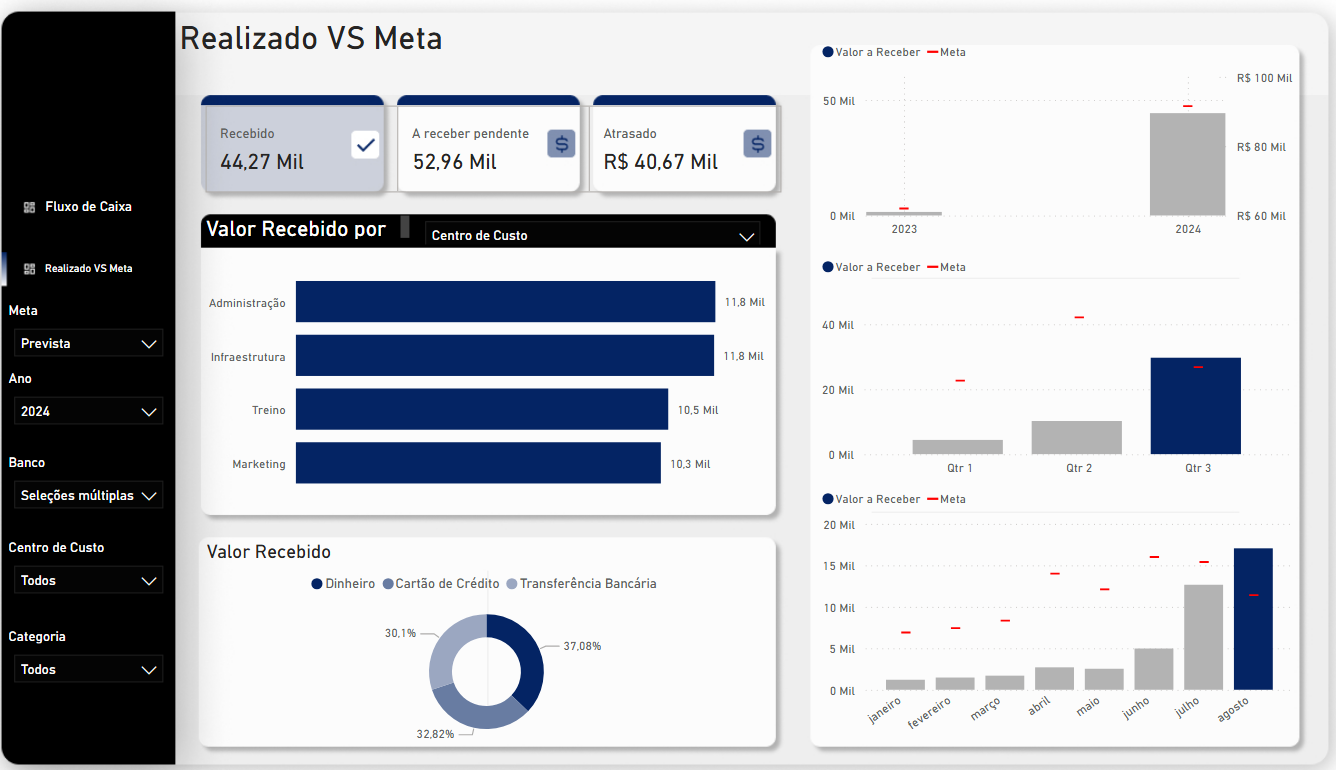

Layout of this report page (visuals, bound fields, positions):
{"tool":"powerbi","page":{"name":"Realizado VS Meta","canvas":[1280,720],"ordinal":1},"visuals":[{"type":"actionButton","box":[32.5,231.2,153.8,40],"z":0},{"type":"actionButton","box":[32.5,176.2,153.8,40],"z":1000},{"type":"slicer","title":"Ano","fields":{"Values":["calendario.Date.Variation.Hierarquia de datas.Ano"]},"box":[32.5,345,153.8,51.2],"z":2000},{"type":"slicer","title":"Banco","fields":{"Values":["d_bancos.Banco"]},"box":[32.5,420,153.8,51.2],"z":3000},{"type":"slicer","title":"Centro de Custo","fields":{"Values":["d_centro_custo.Centro de Custo"]},"box":[32.5,496.2,153.8,51.2],"z":4000},{"type":"slicer","title":"Categoria","fields":{"Values":["d_categoria.Categoria"]},"box":[32.5,576.2,153.8,51.2],"z":5000},{"type":"textbox","box":[186.2,23.8,576.2,77.5],"z":6000},{"type":"cardVisual","fields":{"Data":["Medida.Valor_pago_contas_a_receber","Medida.valores_não_pagos_conta_a_receber","Medida.Valor_nao_pago_contas_a_pagar_Atrasado"]},"box":[208.8,101.2,527.5,88.8],"z":7000},{"type":"clusteredBarChart","fields":{"Category":["d_centro_custo.Centro de Custo"],"Y":["Medida.Valor_pago_contas_a_receber"]},"box":[210,231.2,512.5,240],"z":8000},{"type":"slicer","fields":{"Values":["Parâmetro Dimensão.Parâmetro Dimensão"]},"box":[401.2,200,321.2,31.2],"z":9000},{"type":"textbox","box":[208.8,200,192.5,31.2],"z":10000},{"type":"lineClusteredColumnComboChart","fields":{"Category":["calendario.Date.Variation.Hierarquia de datas.Mês"],"Y":["Medida.Valor_pago_contas_a_receber"],"Y2":["Medida.Meta"]},"box":[762.5,440,433.8,245],"z":11000},{"type":"slicer","title":"Meta","fields":{"Values":["Meta.Meta"]},"box":[32.5,283.8,153.8,51.2],"z":12000},{"type":"lineClusteredColumnComboChart","fields":{"Category":["calendario.Date.Variation.Hierarquia de datas.Trimestre"],"Y":["Medida.Valor_pago_contas_a_receber"],"Y2":["Medida.Meta"]},"box":[762.5,231.2,433.8,213.8],"z":13000},{"type":"lineClusteredColumnComboChart","fields":{"Y":["Medida.Valor_pago_contas_a_receber"],"Y2":["Medida.Meta"],"Category":["calendario.Date.Variation.Hierarquia de datas.Ano"]},"box":[762.5,38.8,433.8,192.5],"z":14000},{"type":"donutChart","title":"Valor Recebido","fields":{"Y":["Medida.Valor_pago_contas_a_receber"],"Category":["d_forma_de_pagamento.Forma de Pagamento"]},"box":[210,496.2,512.5,188.8],"z":15000}]}

Visuals, with their boxes on the page's 1280x720 design canvas (x1, y1, x2, y2). These are canvas units, not pixel positions in the 1336x770 screenshot, which may show the page scaled, cropped or inside an application window:
actionButton: <box>32,231,186,271</box>
actionButton: <box>32,176,186,216</box>
"Ano" slicer: <box>32,345,186,396</box>
"Banco" slicer: <box>32,420,186,471</box>
"Centro de Custo" slicer: <box>32,496,186,547</box>
"Categoria" slicer: <box>32,576,186,627</box>
textbox: <box>186,24,762,101</box>
cardVisual - Medida.Valor_pago_contas_a_receber x Medida.valores_não_pagos_conta_a_receber: <box>209,101,736,190</box>
clusteredBarChart - d_centro_custo.Centro de Custo x Medida.Valor_pago_contas_a_receber: <box>210,231,722,471</box>
slicer - Parâmetro Dimensão.Parâmetro Dimensão: <box>401,200,722,231</box>
textbox: <box>209,200,401,231</box>
lineClusteredColumnComboChart - calendario.Date.Variation.Hierarquia de datas.Mês x Medida.Valor_pago_contas_a_receber: <box>762,440,1196,685</box>
"Meta" slicer: <box>32,284,186,335</box>
lineClusteredColumnComboChart - calendario.Date.Variation.Hierarquia de datas.Trimestre x Medida.Valor_pago_contas_a_receber: <box>762,231,1196,445</box>
lineClusteredColumnComboChart - Medida.Valor_pago_contas_a_receber x Medida.Meta: <box>762,39,1196,231</box>
"Valor Recebido" donutChart: <box>210,496,722,685</box>
